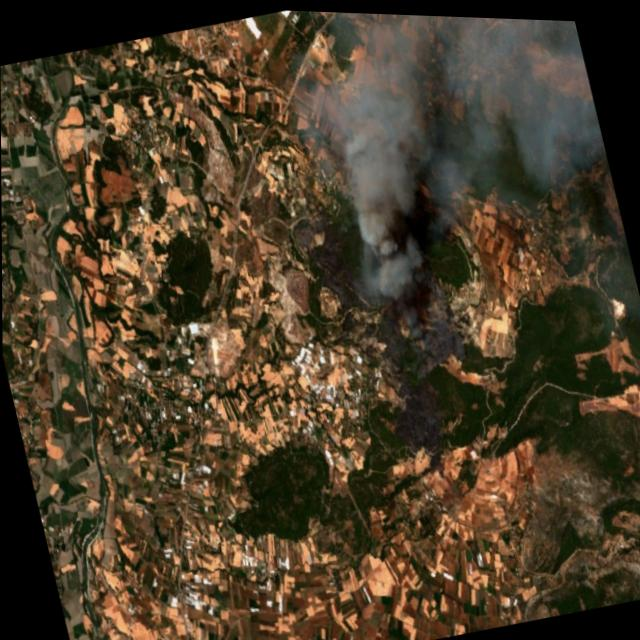fire: (343, 192, 489, 399)
